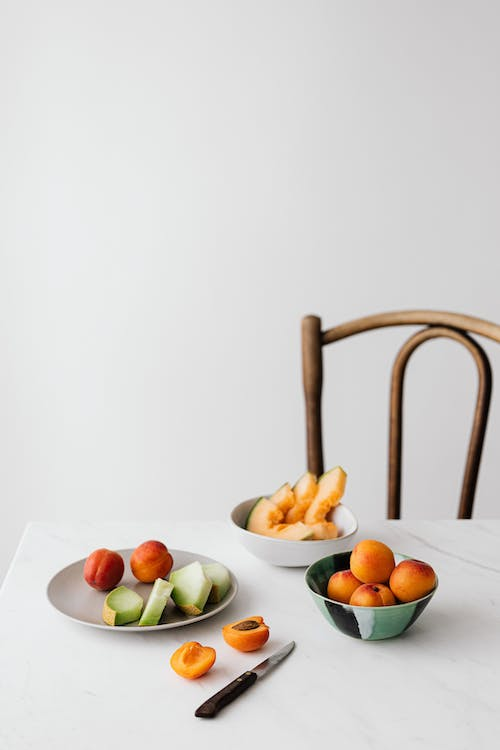knife: (193, 638, 297, 720)
